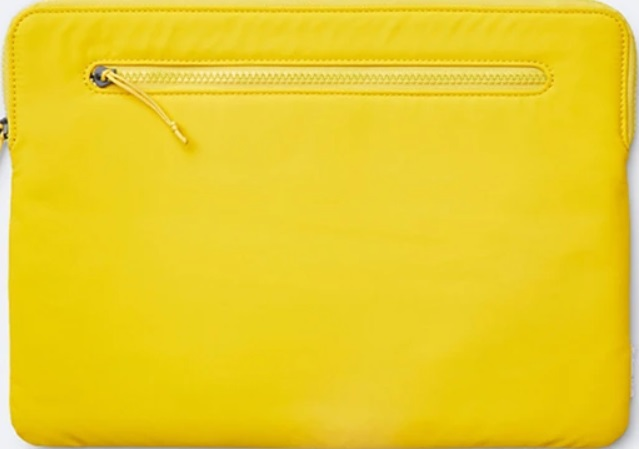Yellow: (3, 2, 633, 444)
